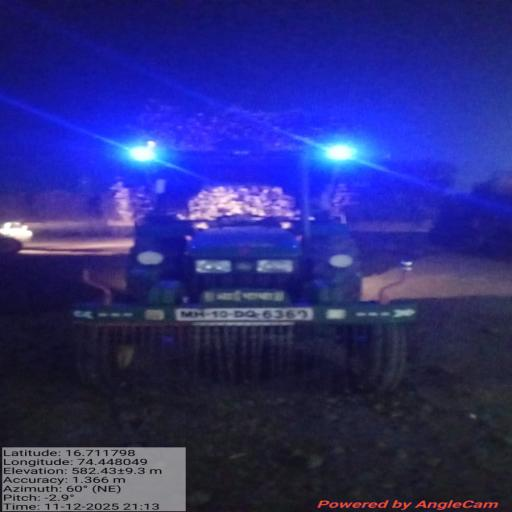number_plate: (170, 303, 340, 330)
